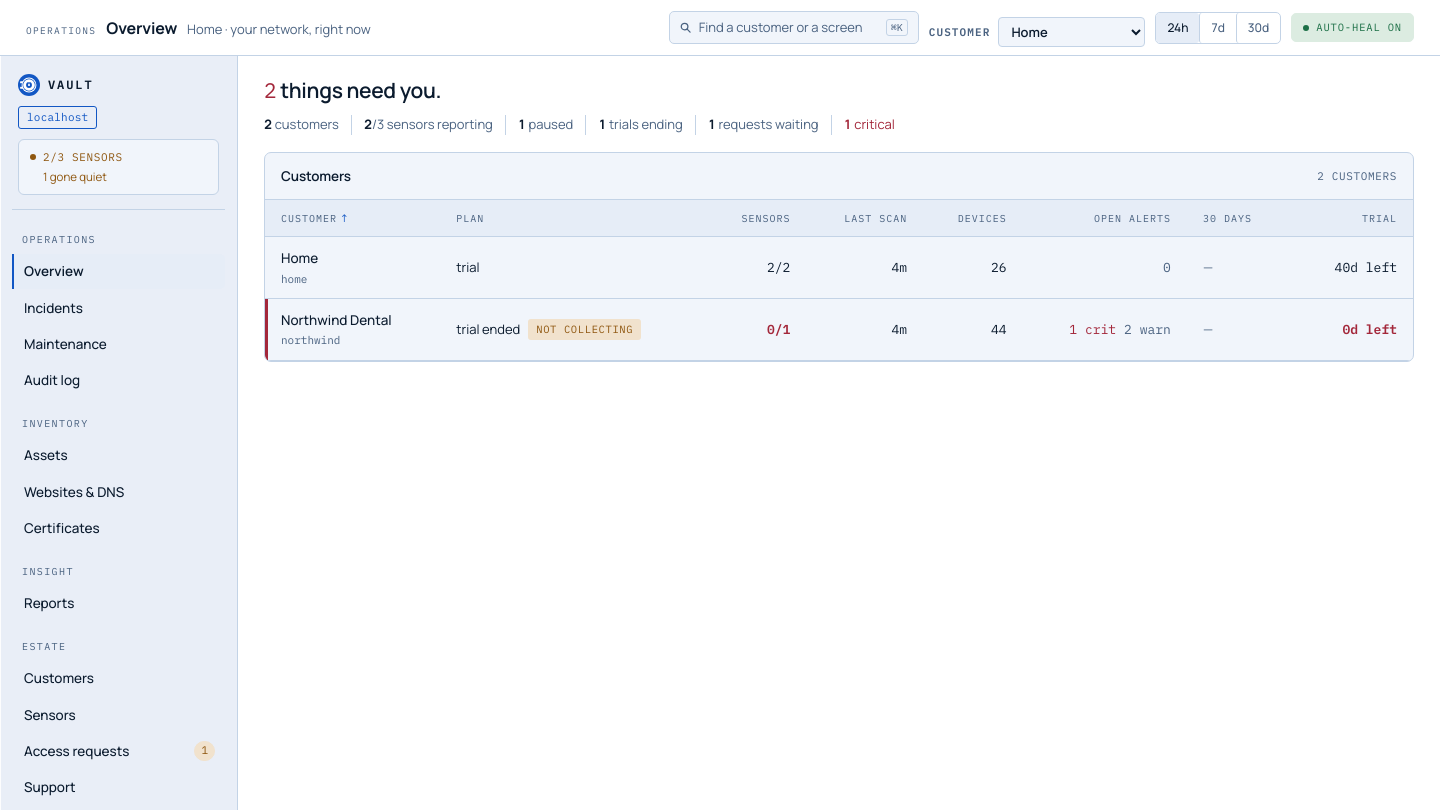
owner console › says so plainly when nothing matches
Click the button "Find a customer or a screen ⌘K": (794, 28) [669,11,919,44]
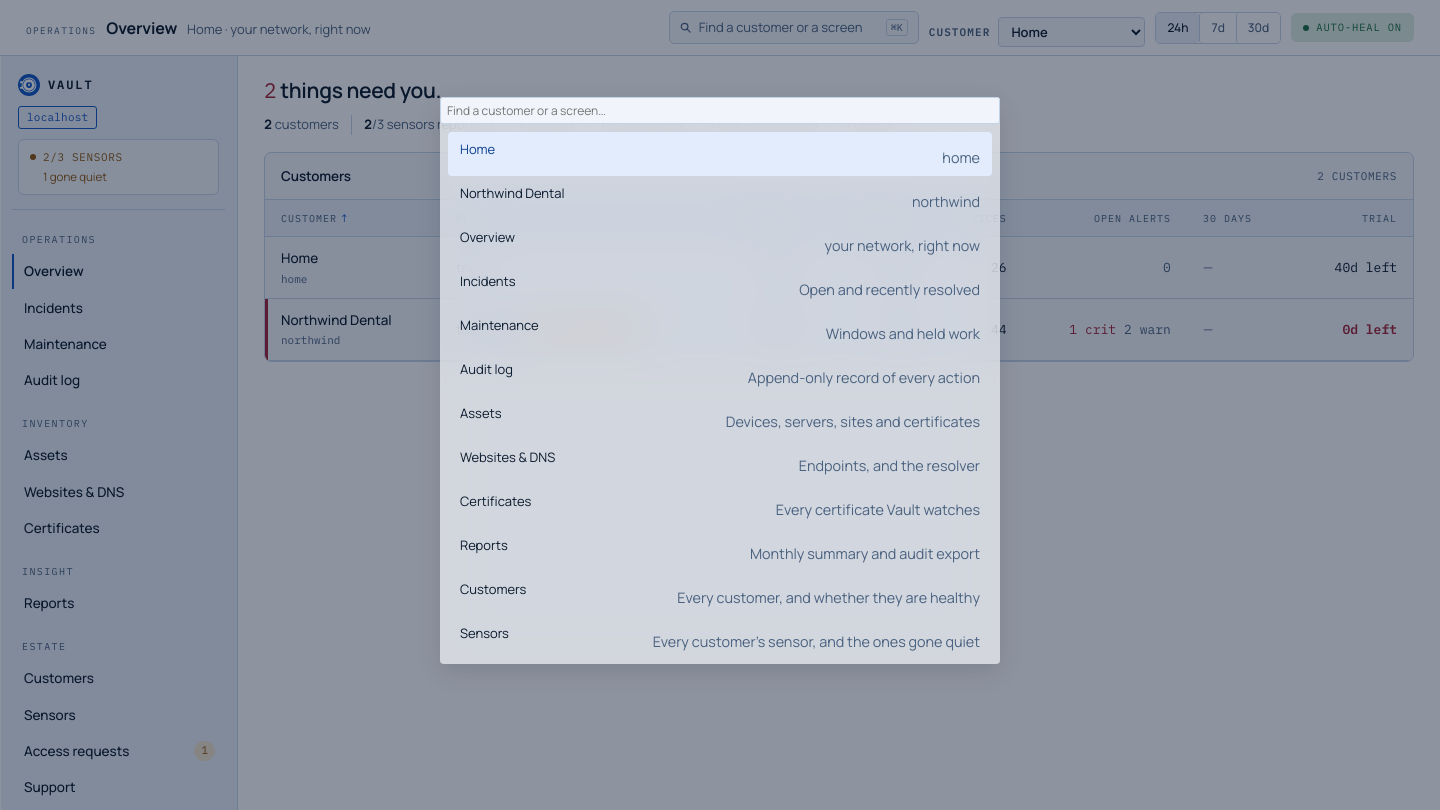
In the dropdown labelled "Find a customer or a screen…": (720, 111) [440,97,1000,124], type "zzzznothing"
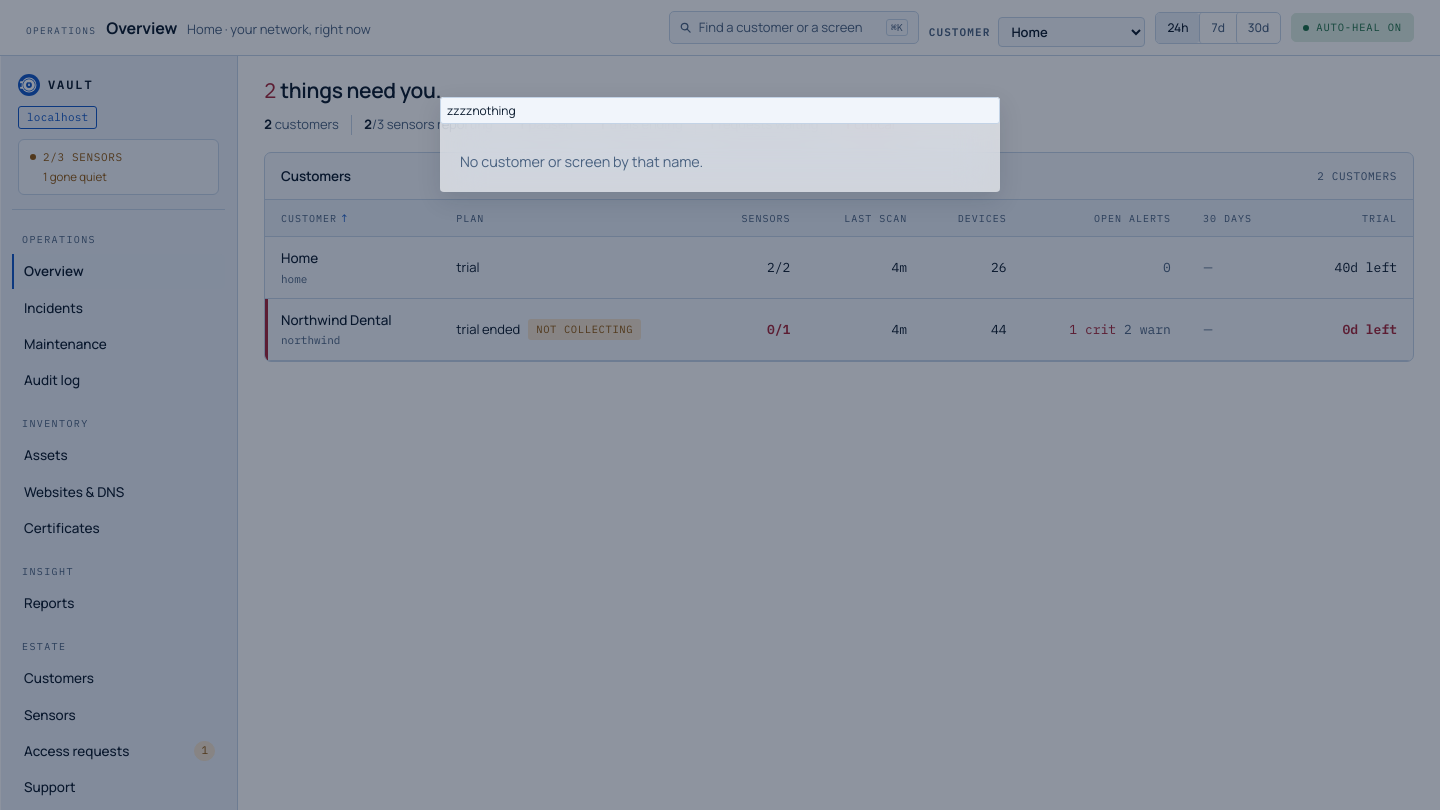
Result: no options are shown
Result: the list item "No customer or screen by that name." is shown at [460,152,703,171]
